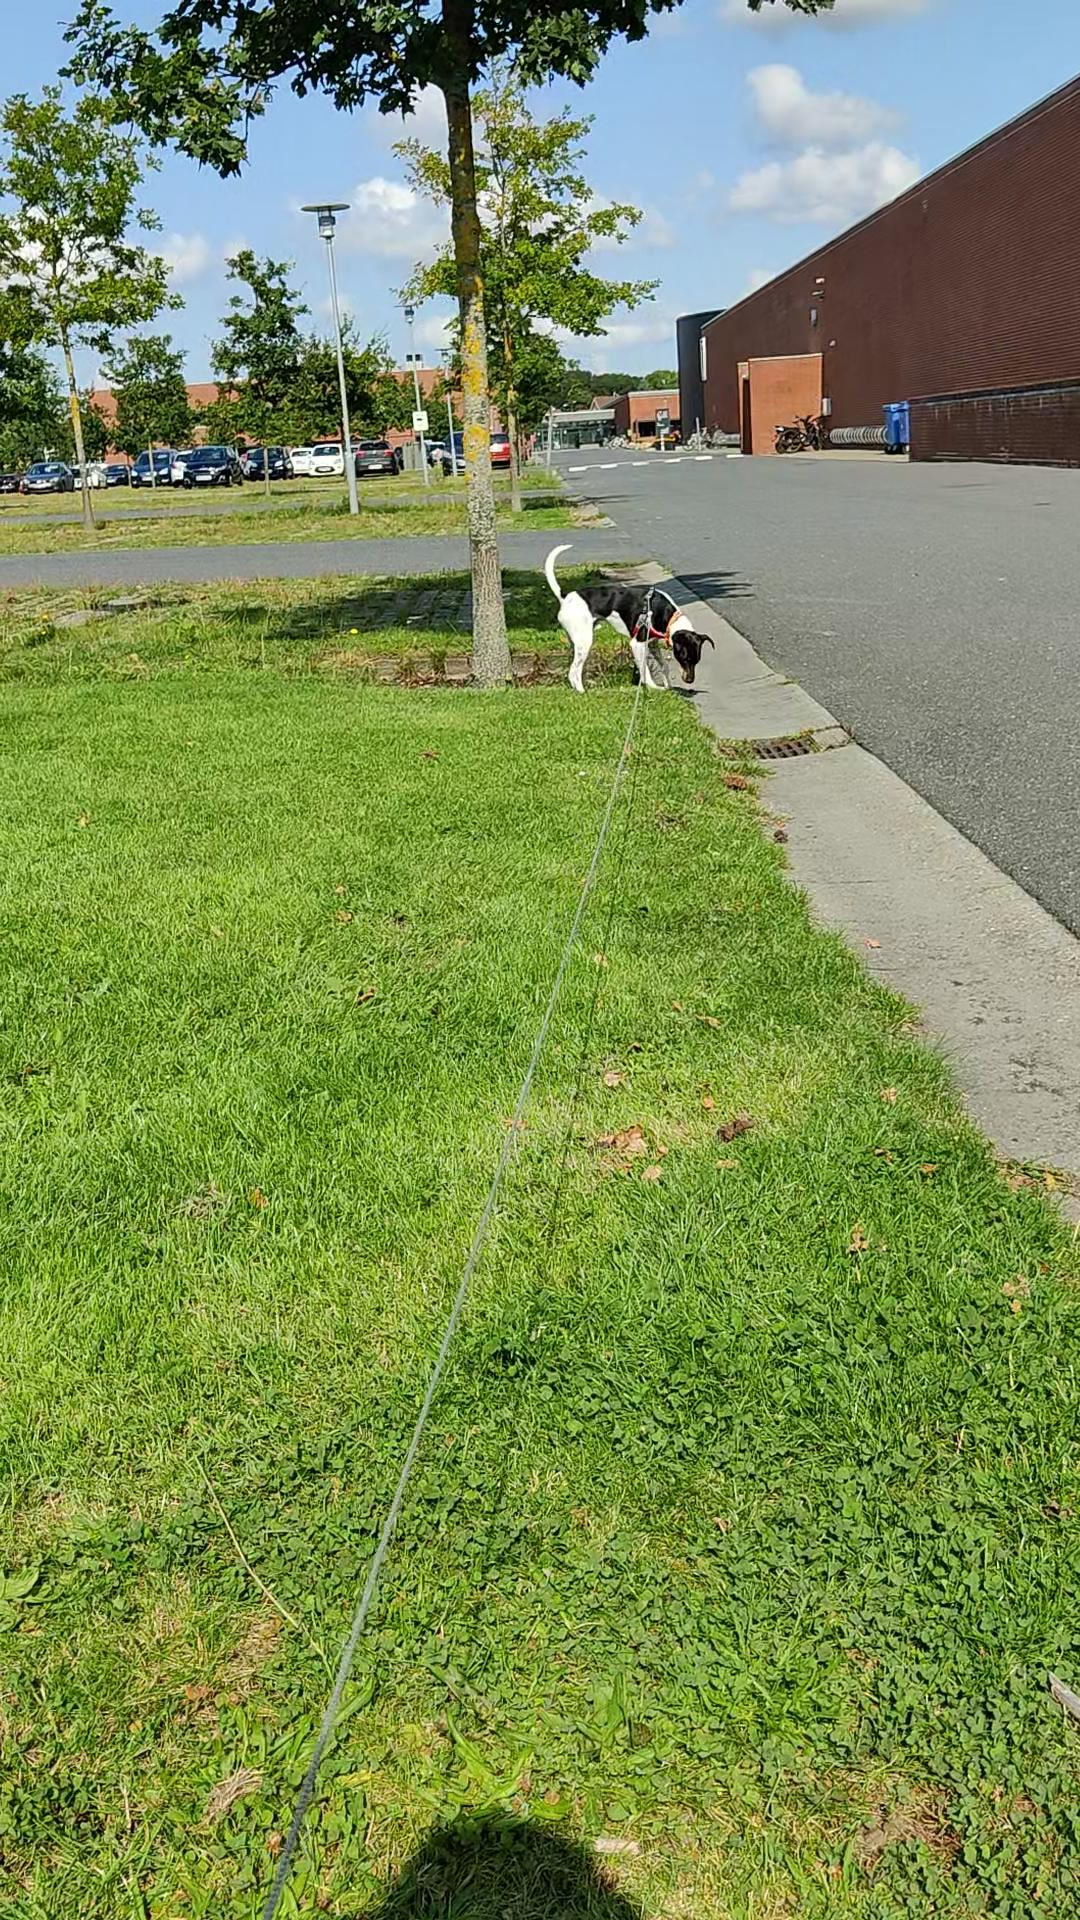Dog: (538, 539, 720, 698)
